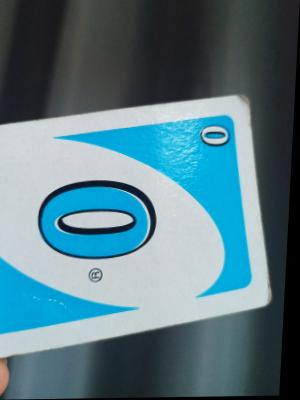blue: (0, 133, 258, 302)
num_0: (191, 120, 234, 155)
